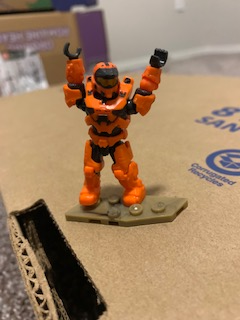spartan: (58, 40, 169, 207)
up: (62, 39, 169, 135)
